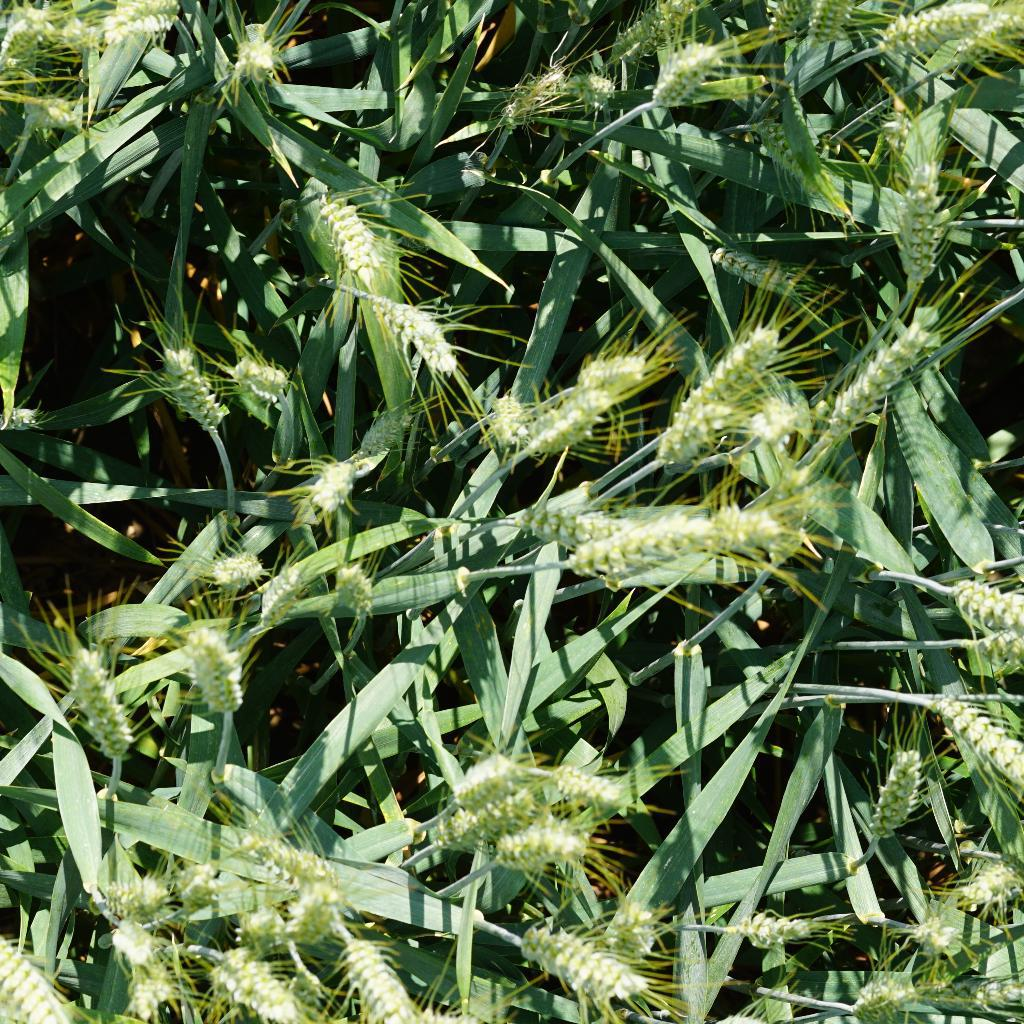0-0: (798, 296, 923, 429), (552, 509, 761, 579), (509, 899, 646, 998), (369, 277, 475, 388), (58, 621, 137, 761), (930, 688, 1024, 793), (688, 307, 784, 406), (179, 608, 261, 718), (296, 186, 388, 284), (331, 916, 414, 1024), (889, 148, 953, 288), (149, 329, 230, 437), (0, 930, 93, 1024), (746, 100, 829, 205), (680, 492, 798, 562), (505, 486, 638, 548), (208, 942, 305, 1024), (604, 0, 708, 76), (855, 736, 925, 844), (545, 331, 657, 397), (703, 237, 816, 302), (216, 348, 299, 432), (512, 387, 606, 460), (930, 0, 1024, 72), (494, 59, 613, 112), (492, 808, 595, 869), (529, 739, 628, 802), (432, 733, 522, 802), (921, 625, 1024, 685), (840, 970, 954, 1024), (664, 400, 747, 473), (240, 821, 333, 886), (343, 397, 428, 468), (14, 74, 90, 152), (658, 32, 733, 109), (866, 88, 934, 169), (112, 959, 194, 1024), (429, 784, 522, 840), (96, 851, 176, 914), (724, 901, 819, 953), (290, 447, 362, 515), (888, 0, 996, 45), (958, 568, 1024, 641), (250, 544, 302, 630), (751, 382, 804, 459), (88, 0, 193, 38), (606, 900, 669, 961), (227, 900, 291, 957), (950, 860, 1021, 911), (0, 0, 64, 56), (273, 884, 346, 930), (329, 555, 384, 615), (105, 914, 165, 967), (234, 40, 303, 83), (900, 912, 963, 959), (182, 847, 228, 909), (807, 0, 860, 52), (209, 548, 261, 598), (965, 978, 1024, 1021), (761, 0, 828, 37), (0, 400, 50, 437)
